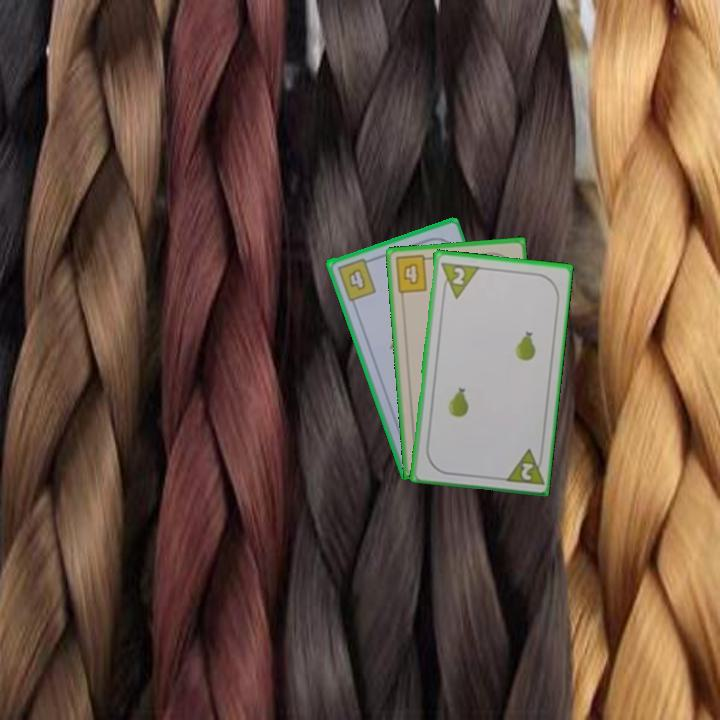2p: (500, 444, 545, 487), (437, 258, 481, 301)
4b: (333, 254, 379, 303), (391, 252, 435, 296)
